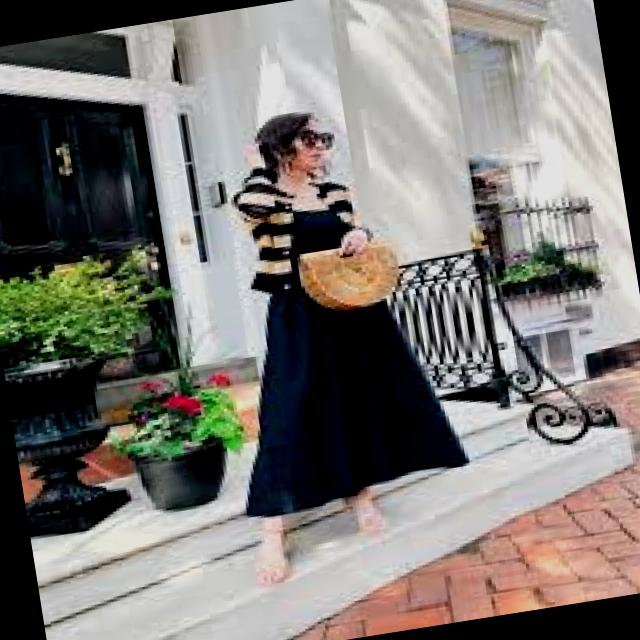dress: (243, 283, 468, 517)
